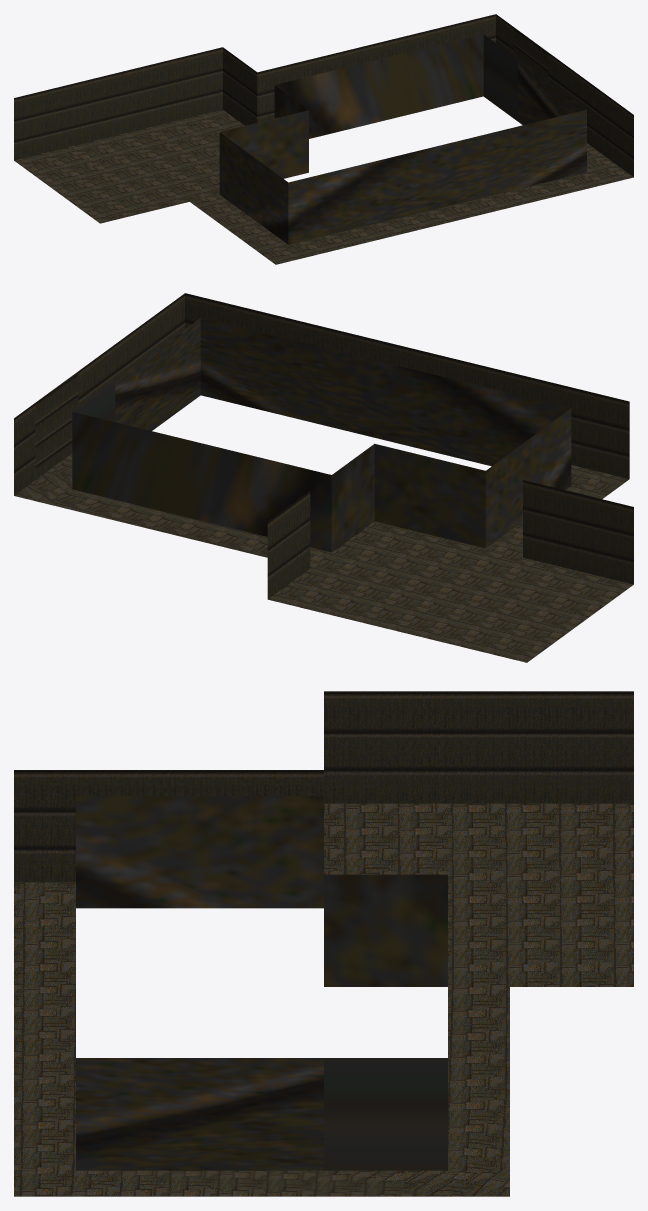
File: doom.glb
3 renders of one model, top to bottom at view 1: azimuth 30°, elevation 25°; view 2: azimuth 150°, elevation 25°; view 3: azimuth 270°, elevation 25°, orthographic. The views are drawn at different scales.
Parts seen in each view (by area): view 1: Плоскость; view 2: Плоскость; view 3: Плоскость.
Boxes of the visible parts, x1,y1,x2,y2 form: Плоскость: (14, 14, 633, 264); Плоскость: (14, 293, 633, 662); Плоскость: (14, 691, 633, 1196).
Bounding box in the file's own units: 30 × 4 × 20.
Materials: 2 (2 with a texture image).
